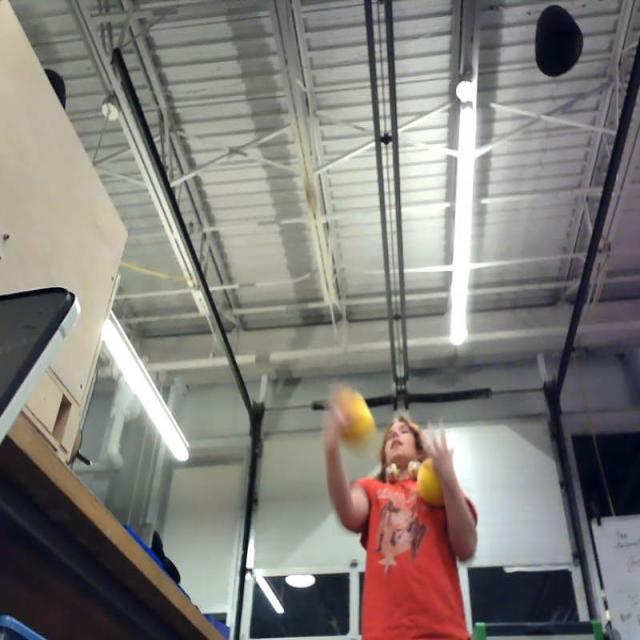Fuel: (418, 457, 454, 507), (338, 399, 373, 443)
